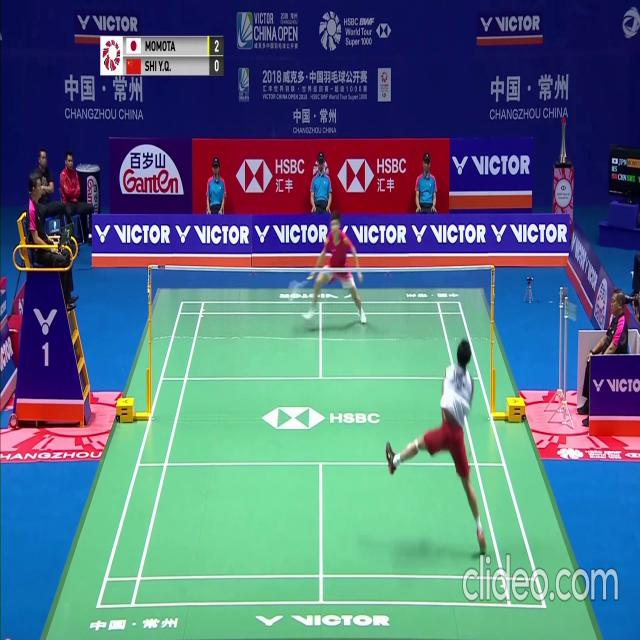Shuttlecock: (291, 290, 296, 297)
